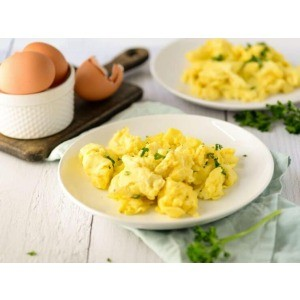egg_brain food: (76, 135, 234, 216), (184, 43, 287, 99), (5, 43, 60, 103)
